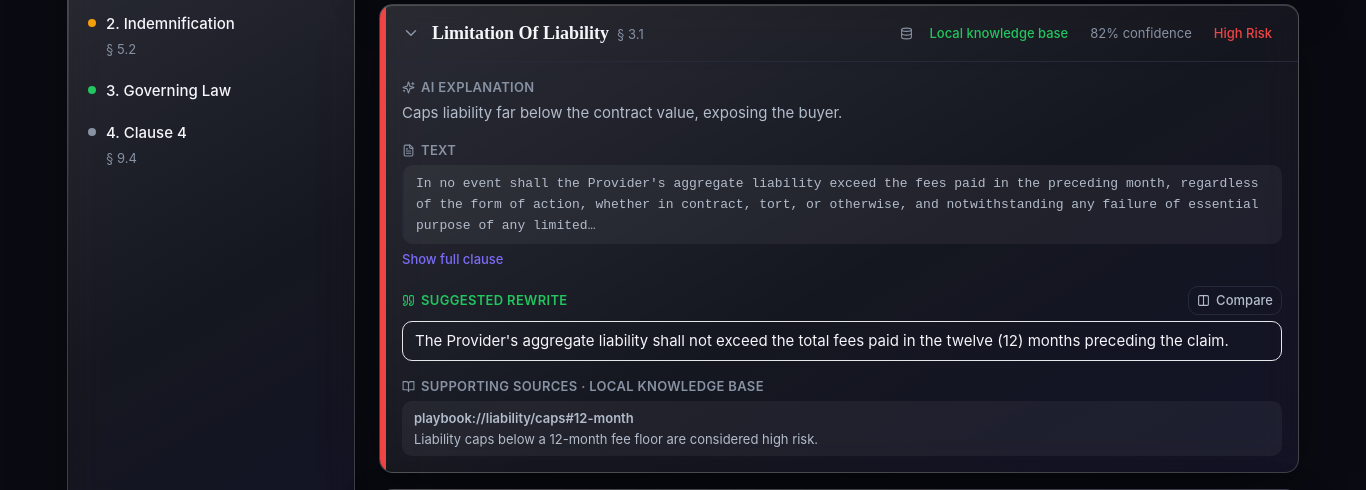
Test: ReportView (spec 017 AC-1,3-11, EC-2) › long_clause_collapses_and_confidence
(page scrolled)
Expected: the text "82% confidence" is shown, [1090, 24, 1192, 42]
Step 1. Click the button "Show full clause" → (453, 260), box [402, 250, 504, 269]
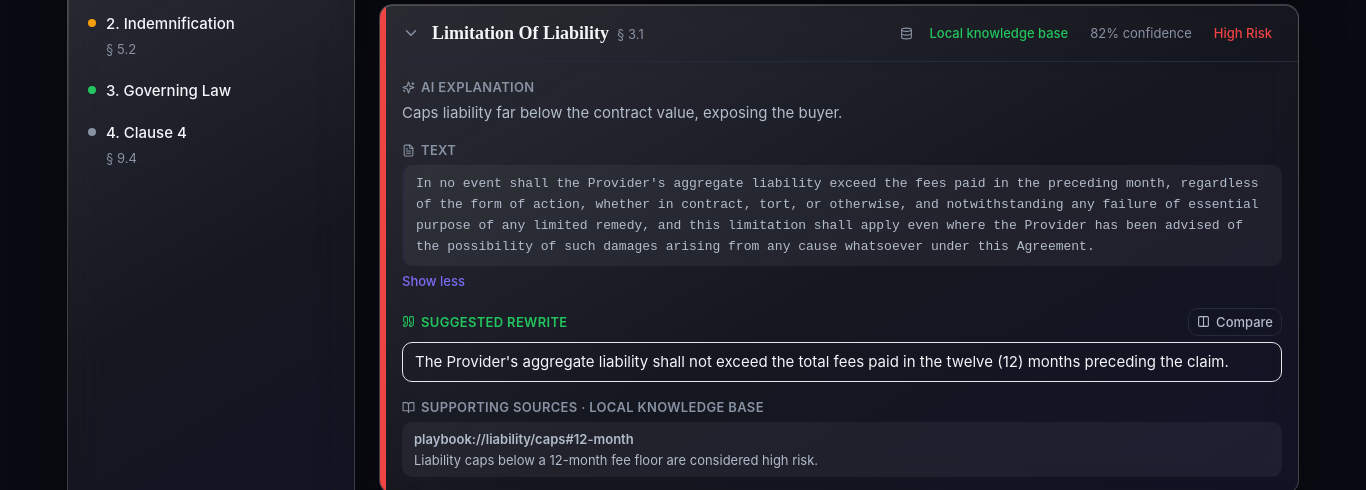
Now the text "possibility of such damages arising from any cause whatsoever" is shown, box [416, 176, 1258, 254]
